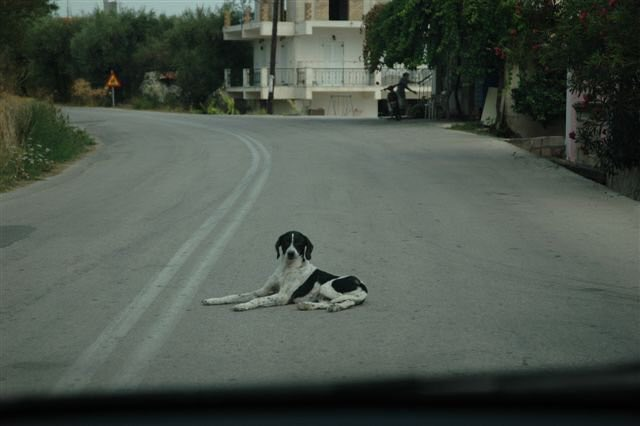kopek: (203, 217, 369, 331)
